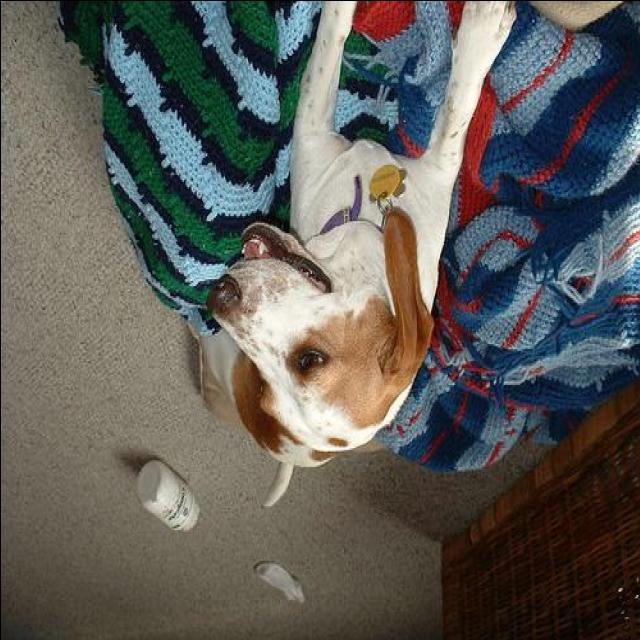beagle: (190, 1, 518, 508)
